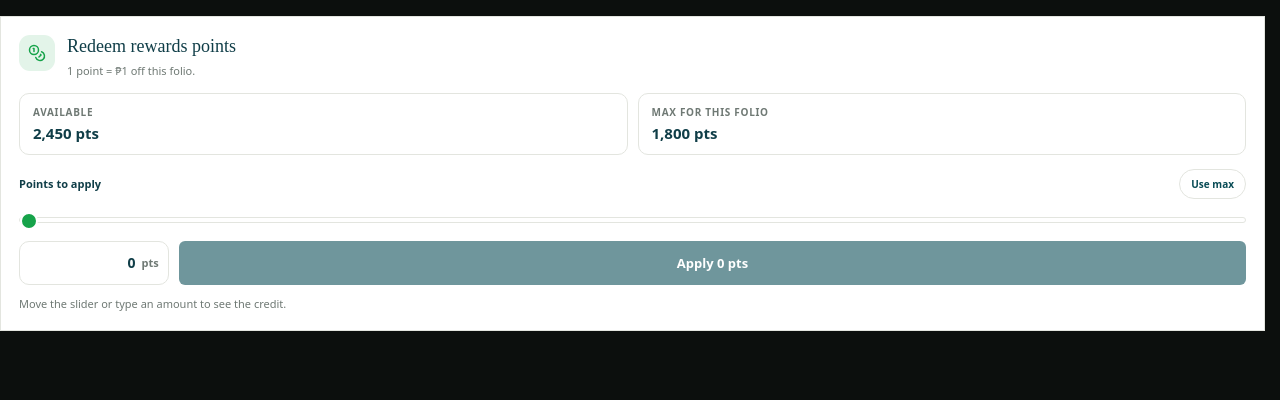
LoyaltyRedemptionSelector › surfaces the server refusal through the alert
The image size is (1280, 400).
Click the button "Use max" at (1213, 184), box x1=1179 y1=168 x2=1246 y2=198
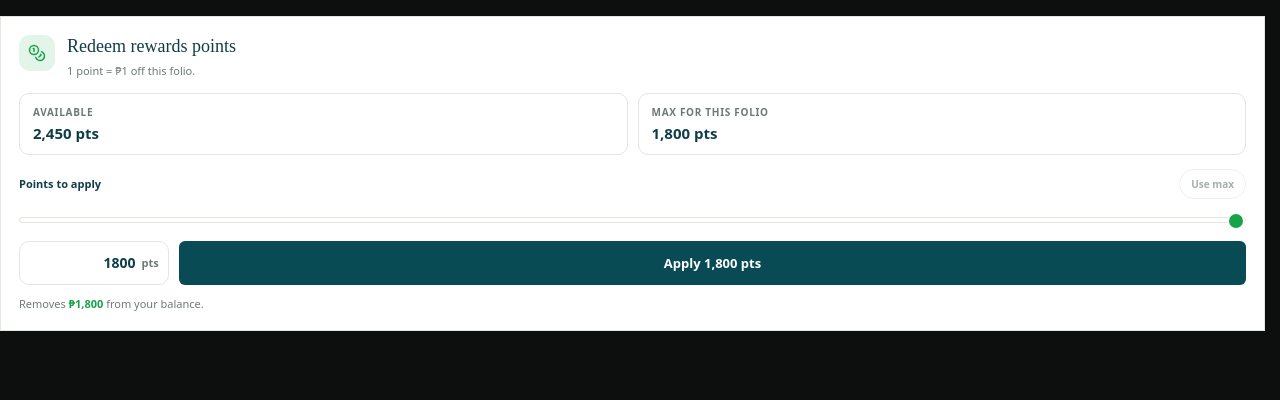
Click the button "Apply 1,800 pts" at (712, 262), box x1=179 y1=240 x2=1246 y2=284
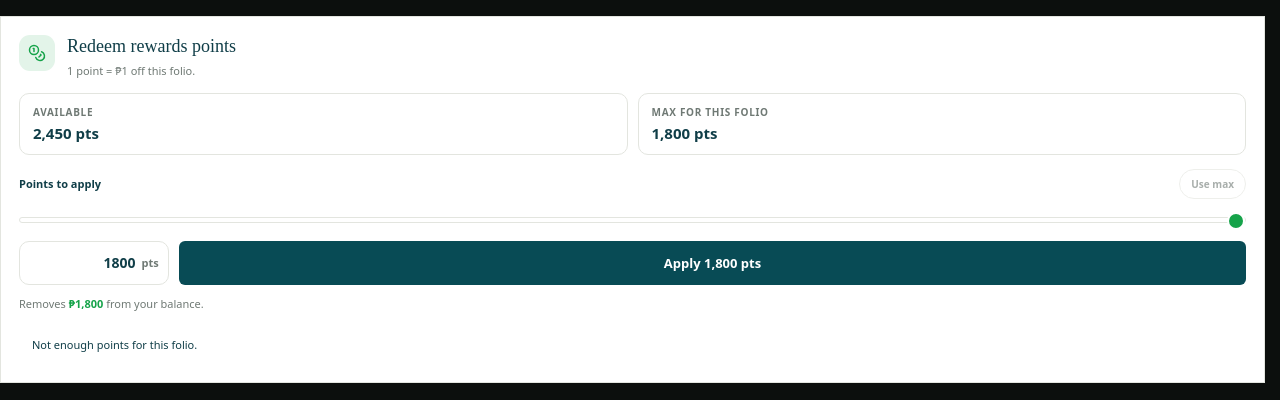
expect the message reads "Not enough points for this folio.": met, box x1=32 y1=337 x2=197 y2=352
